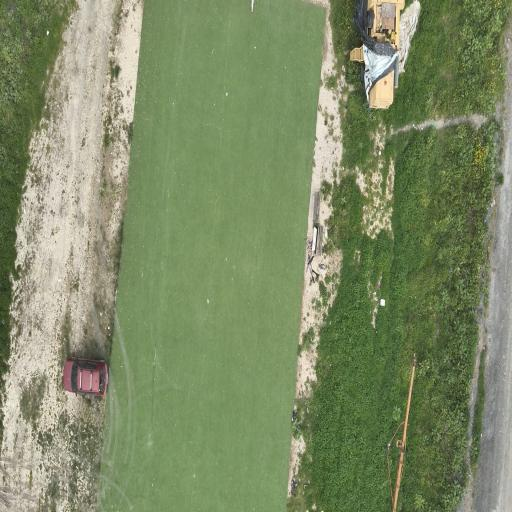car: (62, 358, 107, 395)
harvester: (350, 0, 403, 108)
